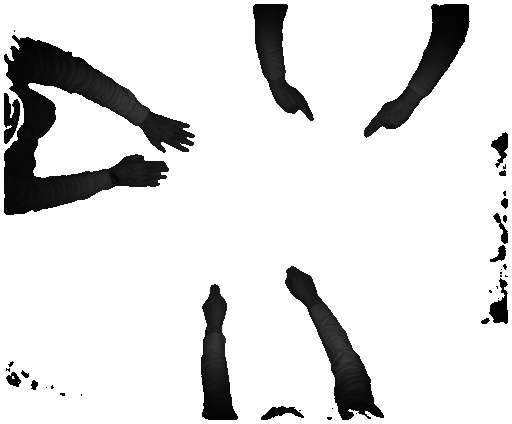hand: (148, 104, 199, 154), (360, 101, 415, 143), (280, 264, 335, 305), (264, 87, 317, 127), (117, 156, 175, 191), (200, 280, 231, 328)
